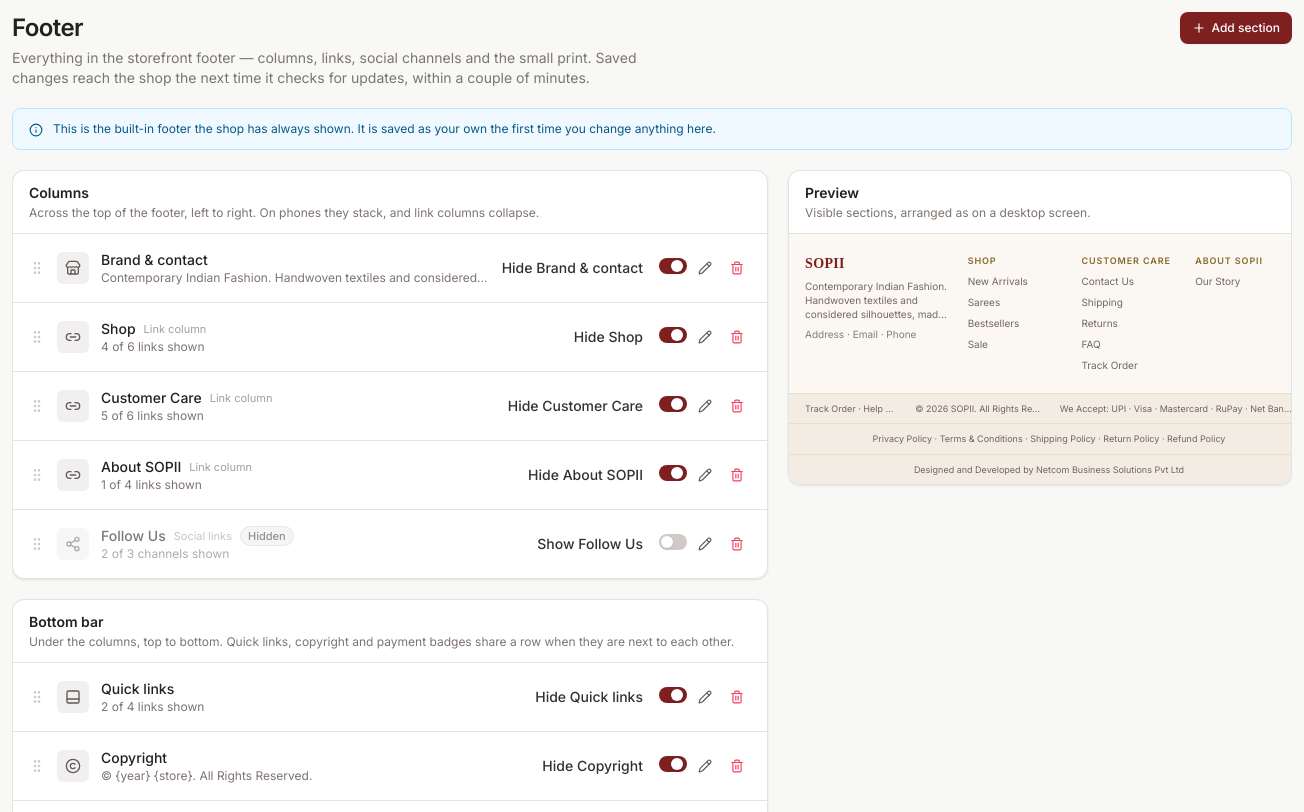
Test: FooterPage › hides a section from its switch, and saves the footer as the store’s own
Expected: the text "Customer Care" in the row of "Hide Customer Care" is shown, x1=101 y1=389 x2=202 y2=406
Click the switch named "Hide Customer Care". click: coordinates (673, 404)
box: x1=659 y1=396 x2=687 y2=412
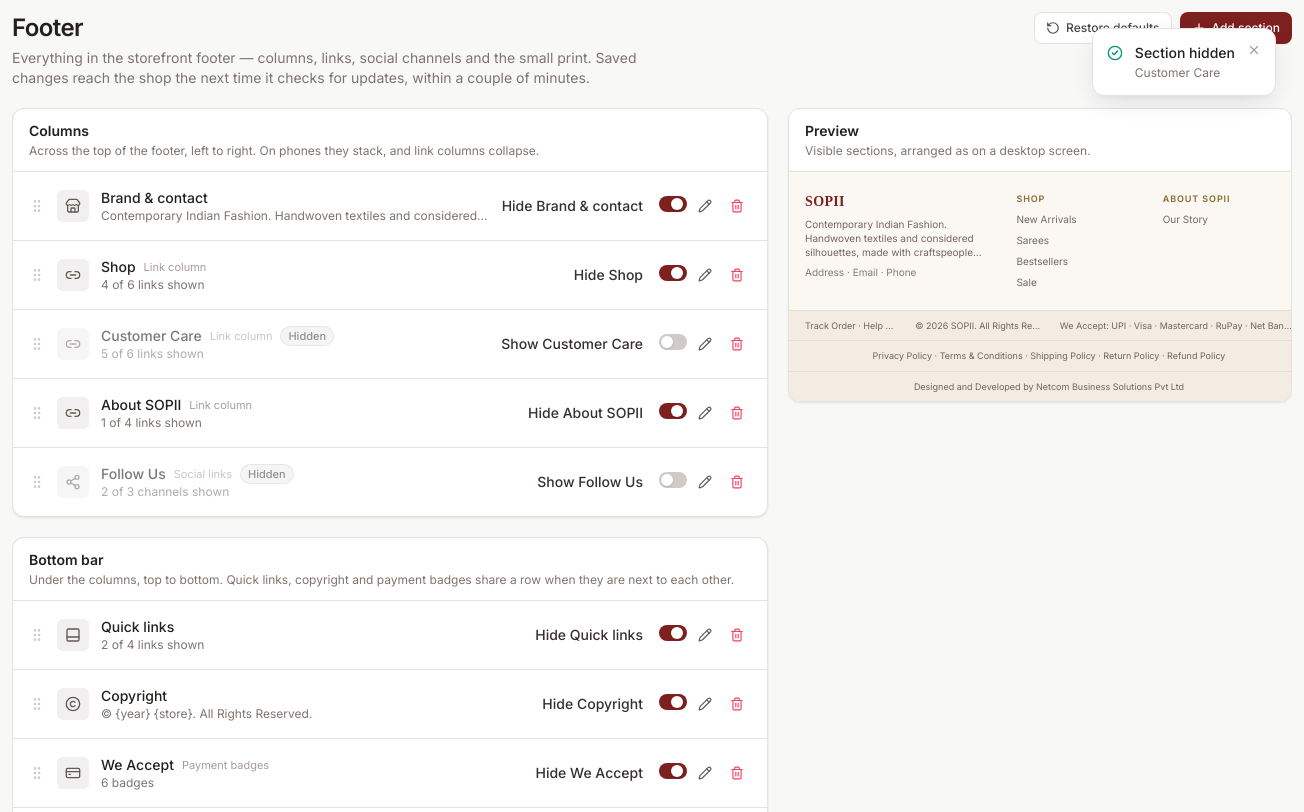
Result: the text "Hidden" in the row of "Show Customer Care" is shown at x1=288 y1=329 x2=326 y2=343
Result: the text "built-in footer the shop has always shown" is gone
Result: the button "Restore defaults" is shown at x1=1034 y1=12 x2=1172 y2=44
